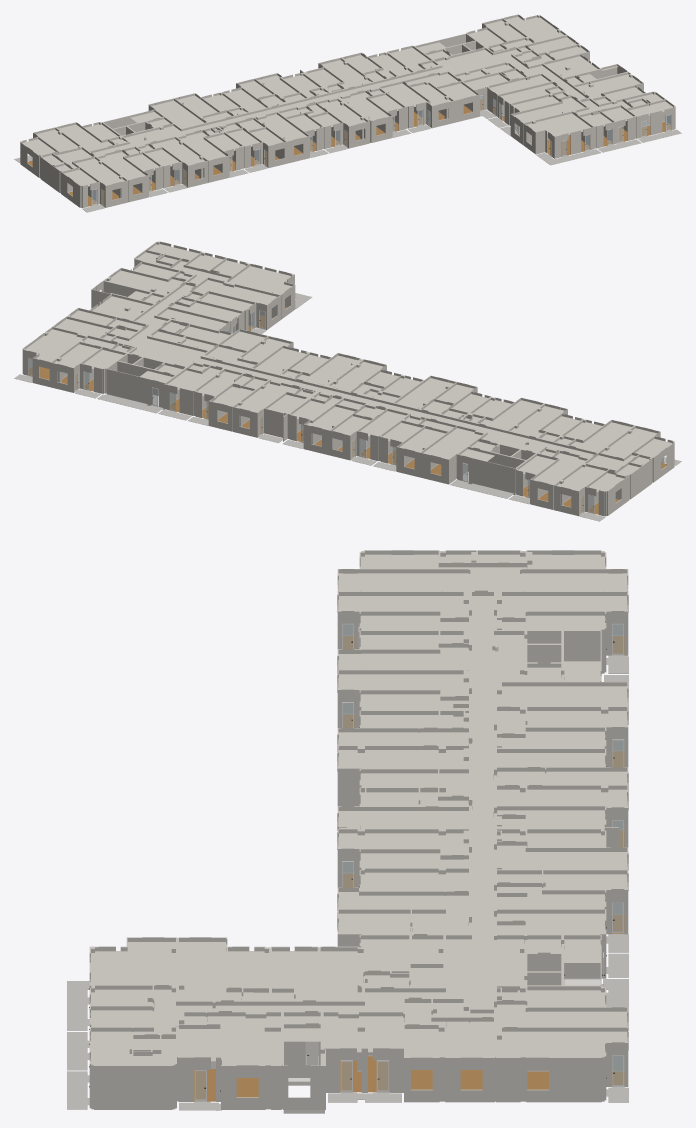
3 views of the same model, one above another, from view 1: azimuth 30°, elevation 25°; view 2: azimuth 150°, elevation 25°; view 3: azimuth 270°, elevation 25° (orthographic). The views are drawn at different scales.
Visible parts, largest first — view 1: in_L08_walls__int_wall, in_L08_ceiling__int_wall, in_L08_u135_walls__int_wall, in_L08_u146_walls__int_wall, in_L08_u135_ceiling__int_wall, in_L08_u146_ceiling__int_wall, in_L08_u138_walls__int_wall, in_L08_u138_ceiling__int_wall, in_L08_u132_ceiling__int_wall, in_L08_u141_walls__int_wall, in_L08_u140_walls__int_wall, in_L08_u127_ceiling__int_wall (+31 smaller); view 2: in_L08_walls__int_wall, in_L08_ceiling__int_wall, in_L08_u146_walls__int_wall, in_L08_u135_ceiling__int_wall, in_L08_u146_ceiling__int_wall, in_L08_u132_walls__int_wall, in_L08_u138_ceiling__int_wall, in_L08_u132_ceiling__int_wall, in_L08_u128_walls__int_wall, in_L08_u127_ceiling__int_wall, in_L08_u127_walls__int_wall, in_L08_u133_ceiling__int_wall (+29 smaller); view 3: in_L08_walls__int_wall, in_L08_ceiling__int_wall, in_L08_u135_ceiling__int_wall, in_L08_u146_ceiling__int_wall, in_L08_u138_ceiling__int_wall, in_L08_u132_walls__int_wall, in_L08_u132_ceiling__int_wall, in_L08_u133_ceiling__int_wall, in_L08_u135_walls__int_wall, in_L08_u127_ceiling__int_wall, in_L08_u133_walls__int_wall, in_L08_u141_ceiling__int_wall (+35 smaller).
Part boxes in pixels (box(x1,y1,x2,y2)): in_L08_walls__int_wall: box(55, 33, 675, 207); in_L08_ceiling__int_wall: box(92, 42, 617, 155); in_L08_u135_walls__int_wall: box(523, 91, 675, 158); in_L08_u146_walls__int_wall: box(20, 127, 127, 207); in_L08_u135_ceiling__int_wall: box(526, 94, 672, 135); in_L08_u146_ceiling__int_wall: box(23, 129, 124, 186); in_L08_u138_walls__int_wall: box(378, 69, 488, 128); in_L08_u138_ceiling__int_wall: box(382, 70, 485, 106); in_L08_u132_ceiling__int_wall: box(469, 16, 563, 50); in_L08_u141_walls__int_wall: box(219, 115, 309, 168); in_L08_u140_walls__int_wall: box(286, 97, 369, 150); in_L08_u127_ceiling__int_wall: box(151, 95, 244, 127); in_L08_walls__int_wall: box(22, 259, 635, 509); in_L08_ceiling__int_wall: box(113, 284, 593, 461); in_L08_u146_walls__int_wall: box(554, 425, 674, 516); in_L08_u135_ceiling__int_wall: box(137, 244, 291, 294); in_L08_u146_ceiling__int_wall: box(557, 428, 671, 491); in_L08_u132_walls__int_wall: box(22, 327, 133, 393); in_L08_u138_ceiling__int_wall: box(182, 331, 305, 374); in_L08_u132_ceiling__int_wall: box(25, 329, 128, 368); in_L08_u128_walls__int_wall: box(303, 403, 401, 460); in_L08_u127_ceiling__int_wall: box(383, 417, 481, 459); in_L08_u127_walls__int_wall: box(380, 414, 484, 484); in_L08_u133_ceiling__int_wall: box(56, 296, 150, 339); in_L08_walls__int_wall: box(91, 551, 628, 1109); in_L08_ceiling__int_wall: box(215, 596, 600, 1065); in_L08_u135_ceiling__int_wall: box(90, 942, 212, 1065); in_L08_u146_ceiling__int_wall: box(338, 554, 627, 590); in_L08_u138_ceiling__int_wall: box(338, 872, 468, 962); in_L08_u132_walls__int_wall: box(497, 986, 628, 1102); in_L08_u132_ceiling__int_wall: box(497, 990, 627, 1057); in_L08_u133_ceiling__int_wall: box(323, 1003, 493, 1057); in_L08_u135_walls__int_wall: box(89, 937, 180, 1109); in_L08_u127_ceiling__int_wall: box(497, 686, 627, 747); in_L08_u133_walls__int_wall: box(328, 999, 497, 1102); in_L08_u141_ceiling__int_wall: box(338, 715, 468, 768).
Bounding box in the file's own units: 82.8 × 3.6 × 38.1.
